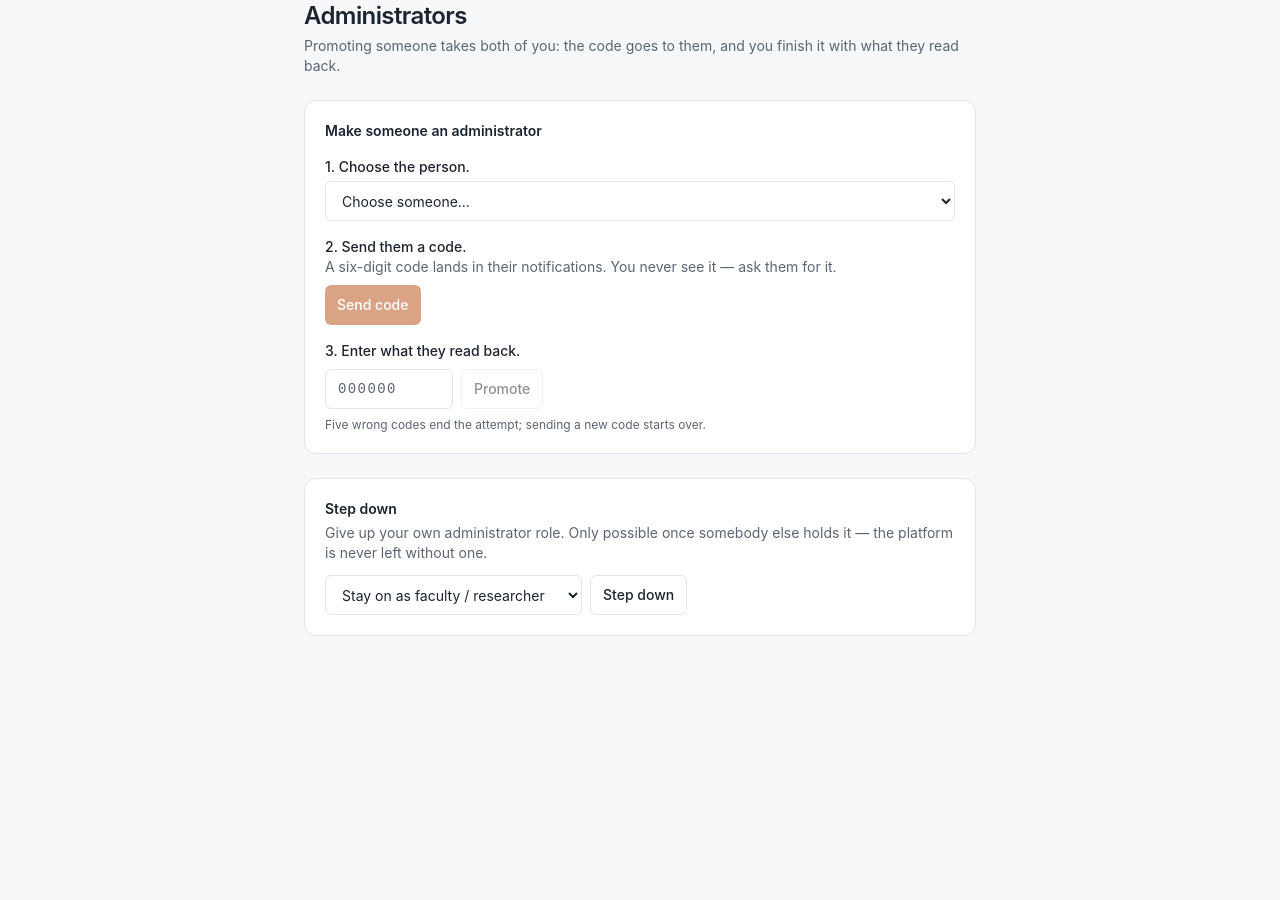
it: AdminHandoverPage › asks before giving up the role
Click the button "Step down".
click(639, 595)  # box [590,575,687,615]
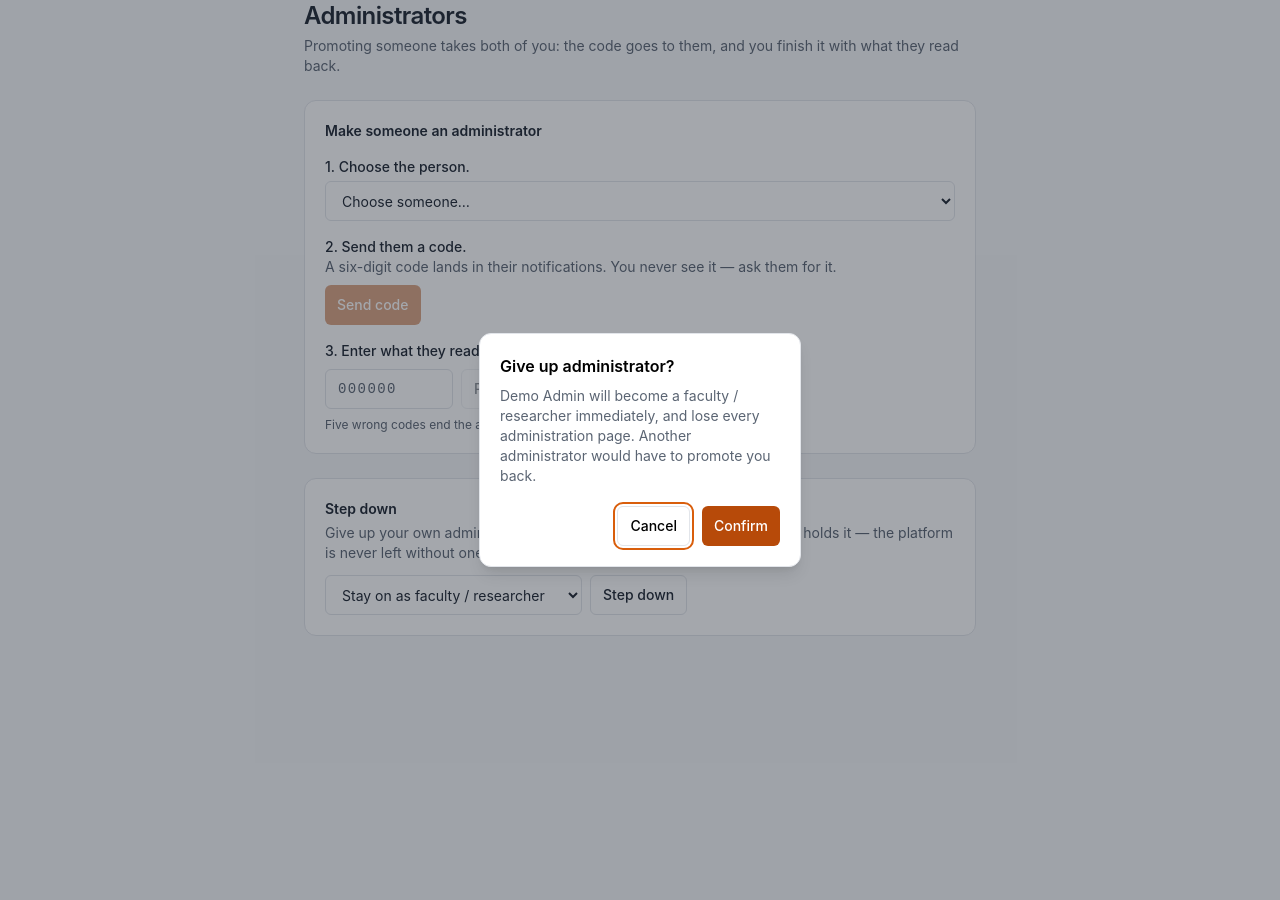
Expected: the heading "Give up administrator?" is shown, [500,356,674,376]
